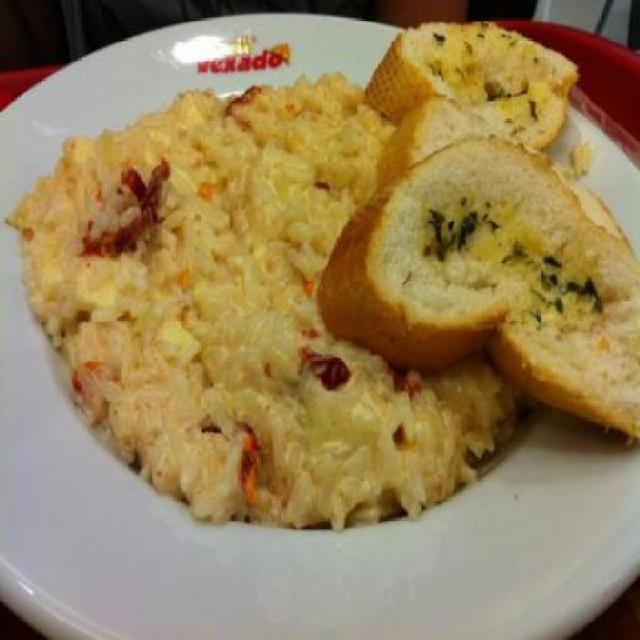Risotto: (30, 42, 339, 533)
